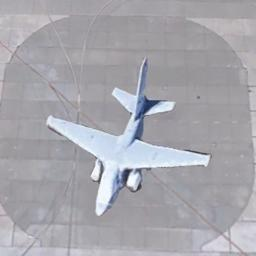Airplane: (45, 55, 211, 216)
